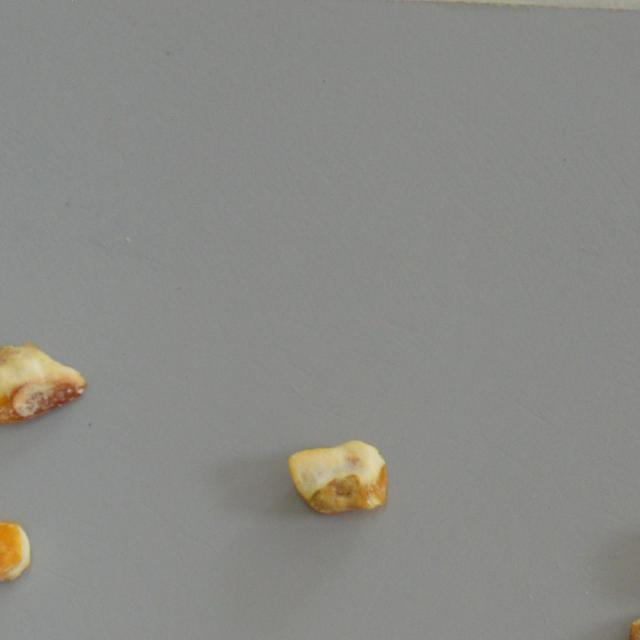dañado: (285, 436, 388, 516), (0, 339, 86, 426), (0, 513, 34, 590)
